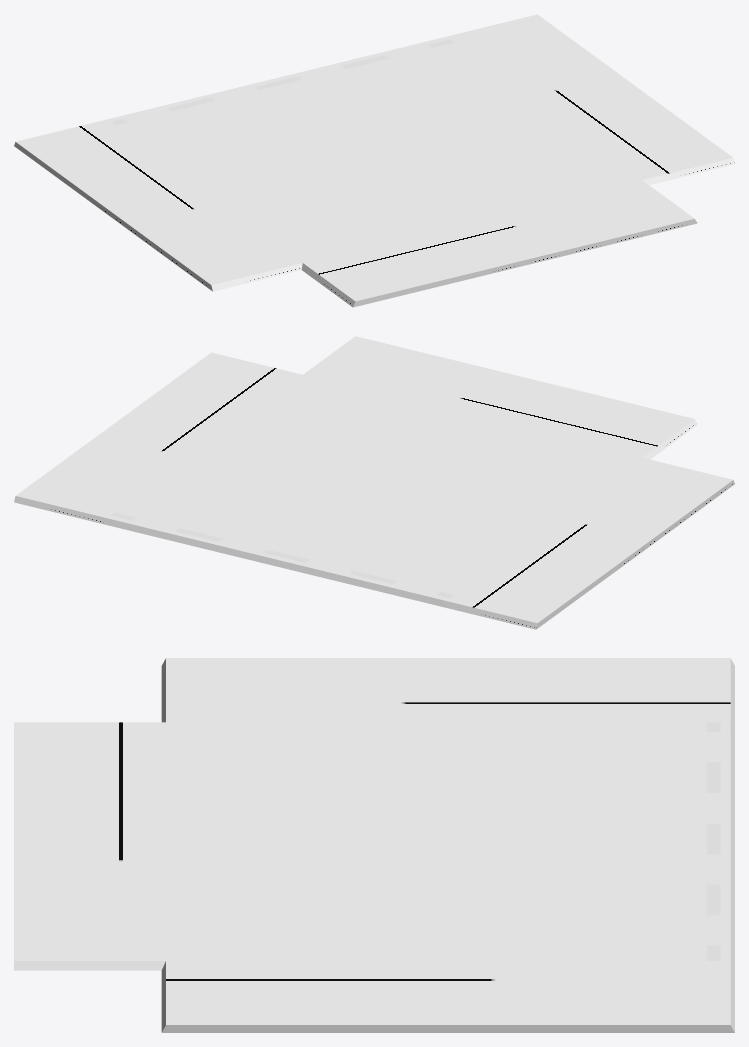
The model's file is bibeko-50-T-stuk.FBX.
3 renders of one model, top to bottom at view 1: azimuth 30°, elevation 25°; view 2: azimuth 150°, elevation 25°; view 3: azimuth 270°, elevation 25°, orthographic. The views are drawn at different scales.
Visible parts, largest first — view 1: bibeko-50-kruispunt001, bibeko-50-kruispunt; view 2: bibeko-50-kruispunt001, bibeko-50-kruispunt; view 3: bibeko-50-kruispunt001, bibeko-50-kruispunt.
Part boxes in pixels (left/top/right/bottom): bibeko-50-kruispunt001: left=107, top=37, right=641, bottom=262; bibeko-50-kruispunt: left=14, top=14, right=734, bottom=307; bibeko-50-kruispunt001: left=103, top=375, right=641, bottom=607; bibeko-50-kruispunt: left=14, top=336, right=734, bottom=629; bibeko-50-kruispunt001: left=166, top=722, right=734, bottom=969; bibeko-50-kruispunt: left=14, top=658, right=734, bottom=1032.
Size of the model in its own units: 394 by 3.94 by 327.
2 materials, 2 textured.
